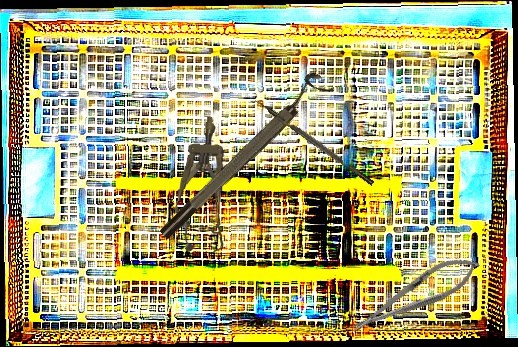Chopper: (247, 94, 375, 192)
Fixation Ring: (150, 68, 334, 243)
Needle Holder: (343, 245, 487, 345)
Speculum: (171, 114, 237, 255)
